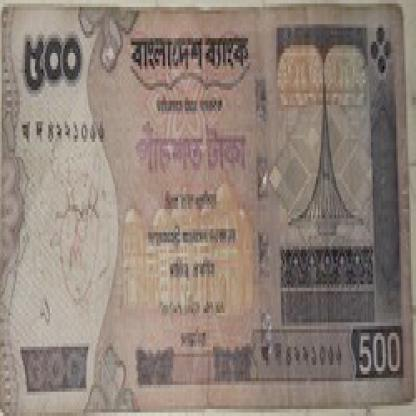500 taka: (18, 35, 93, 94), (343, 329, 406, 385)
currency: (5, 10, 415, 413)
